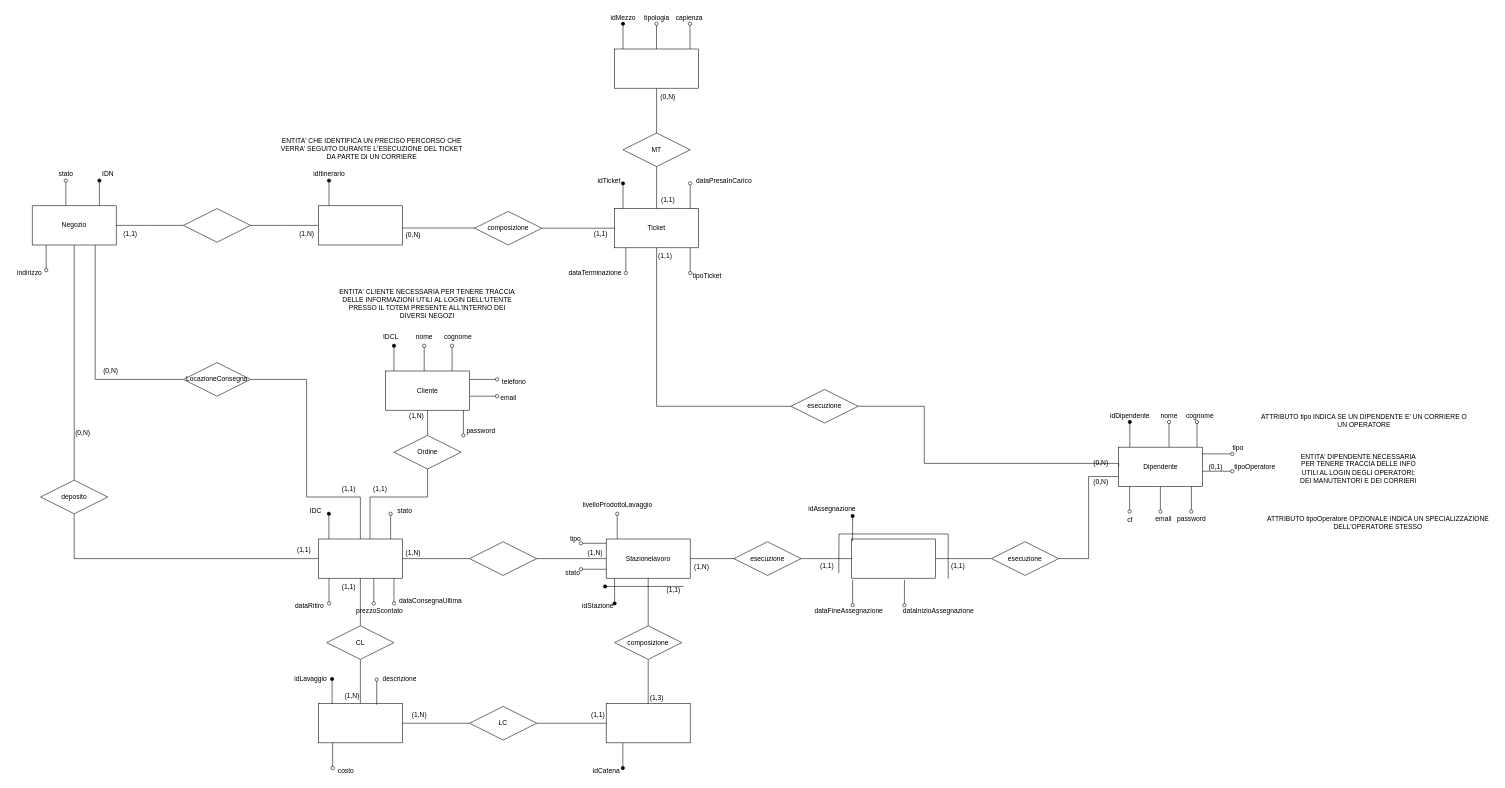
This 1505x788 diagram has some shape labels left out. Each missing label, with the centre of its shape:
"Assegnazione" goes at (x=893, y=558).
"Capo" goes at (x=360, y=558).
"CatenaLavorazione" goes at (x=648, y=723).
"contenuto" goes at (x=217, y=225).
"Itinerario" goes at (x=360, y=225).
"Lavaggio" goes at (x=360, y=723).
"lavorazione" goes at (x=503, y=558).
"Mezzo" goes at (x=656, y=68).
